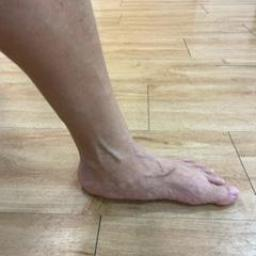Medial View -Left Foot-: (58, 126, 248, 221)
